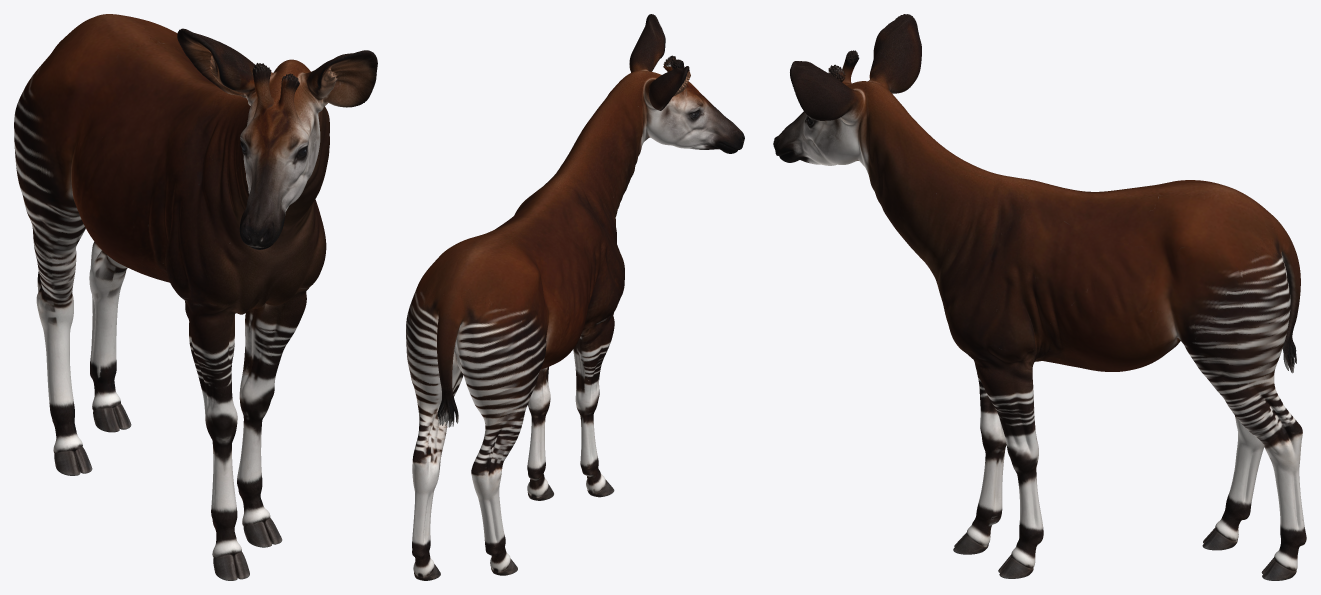
The model's file is wild_life_okapi_optimized.glb.
3 views of the same model, side by side, from view 1: azimuth 30°, elevation 25°; view 2: azimuth 150°, elevation 25°; view 3: azimuth 270°, elevation 25° (orthographic). The views are drawn at different scales.
Bounding box in the file's own units: 0.7016 × 1.9 × 1.84.
Materials: 1 (1 with a texture image).
